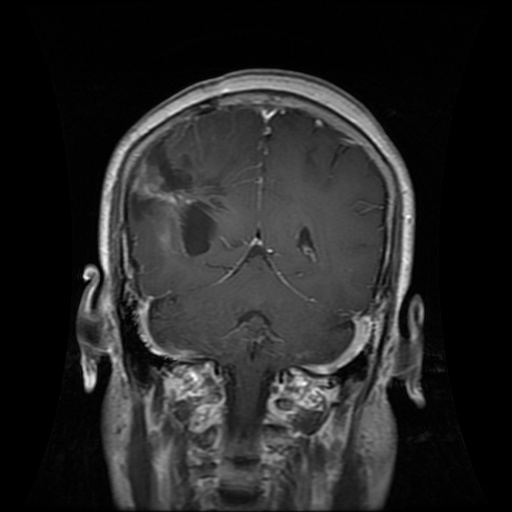glioma: (133, 130, 226, 255)
